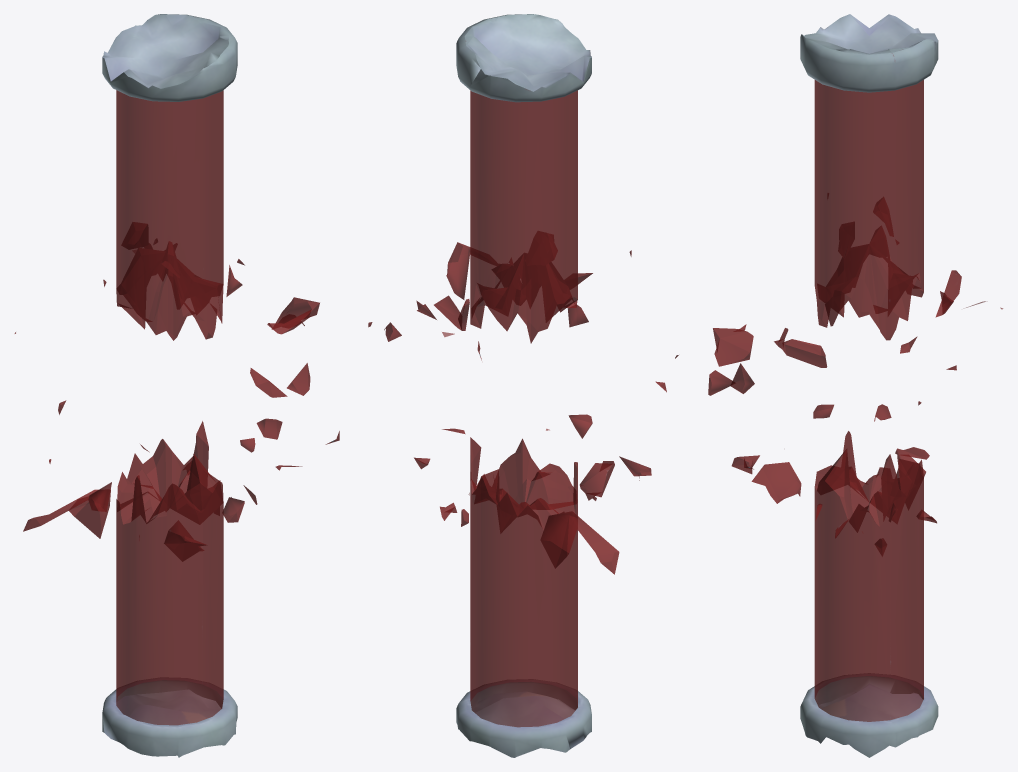
File: Ruined_Pipes.glb
3 views of the same model, side by side, from view 1: azimuth 30°, elevation 25°; view 2: azimuth 150°, elevation 25°; view 3: azimuth 270°, elevation 25° (orthographic).
Visible parts, largest first — view 1: Ruined_Pipe; view 2: Ruined_Pipe; view 3: Ruined_Pipe.
Boxes of the visible parts, <box> form: Ruined_Pipe: <box>14,14,339,757</box>; Ruined_Pipe: <box>368,14,678,757</box>; Ruined_Pipe: <box>708,14,1002,757</box>.
Bounding box in the file's own units: 0.4971 × 1.25 × 0.4774.
1 material, 1 textured.
